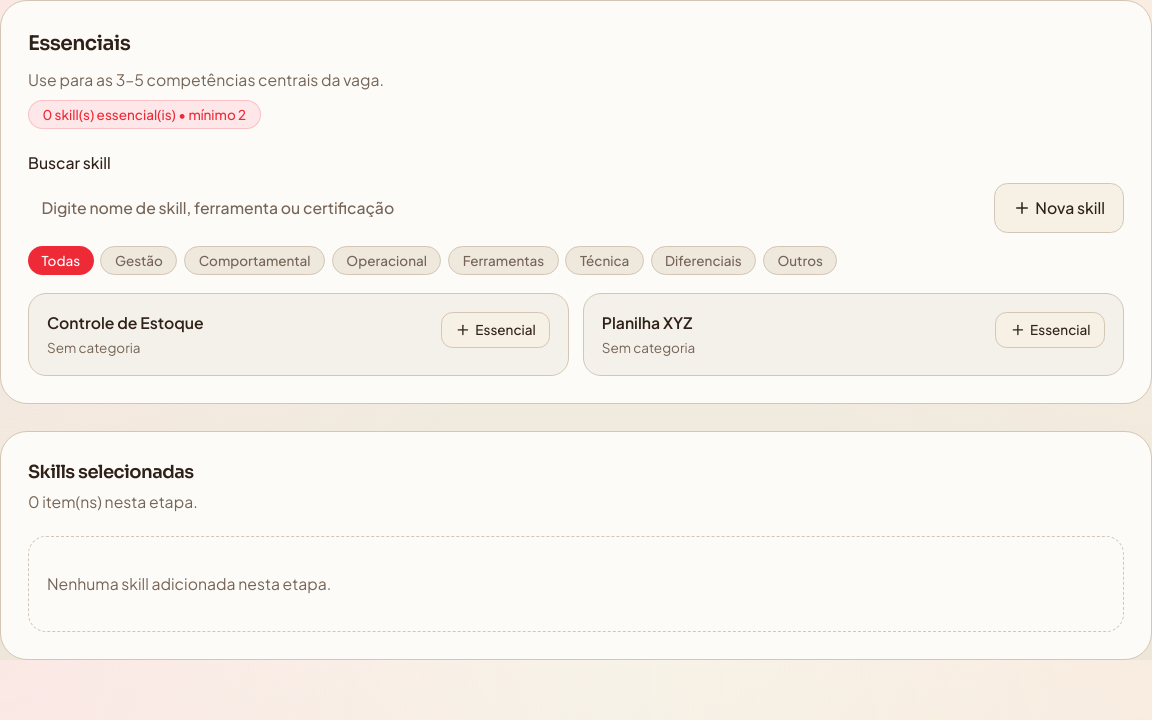
Test: job skill steps › chip Operacional filtra por keywords operacionais, não por exclusão geral
The width and height of the screenshot is (1152, 720).
Click the button "Operacional" at (387, 260), box [332,246,441,275]
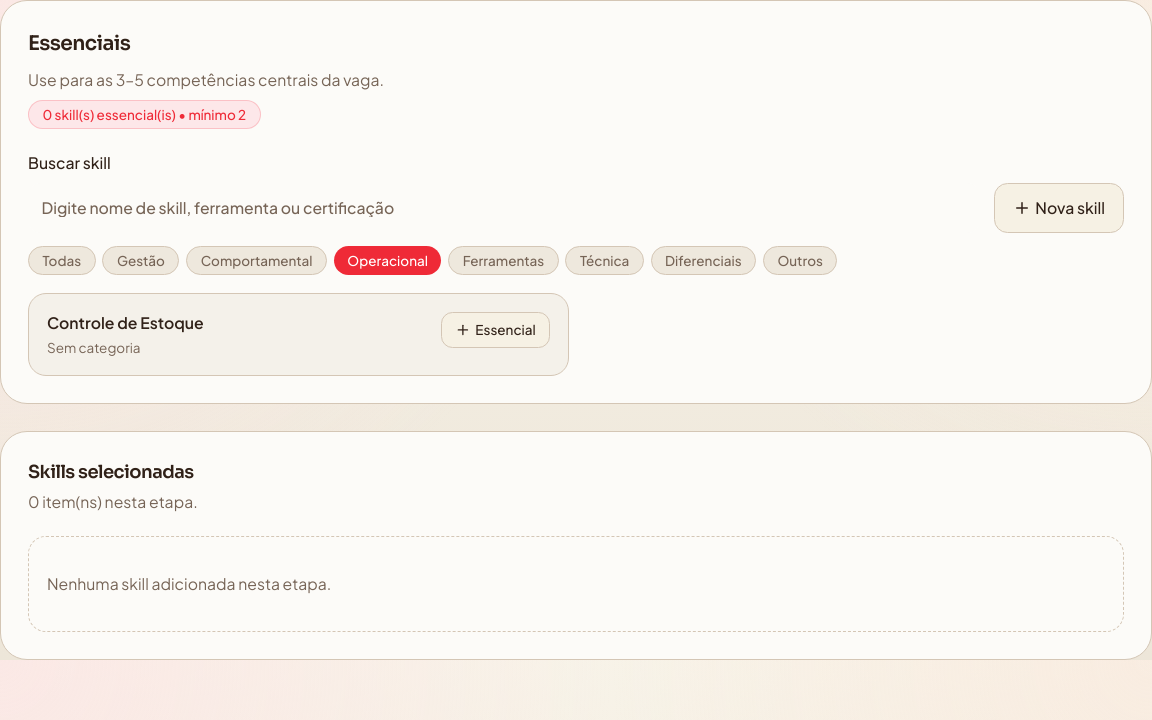
Expected: the text "Controle de Estoque" is shown, [47,313,204,332]
Expected: the text "Planilha XYZ" is gone
